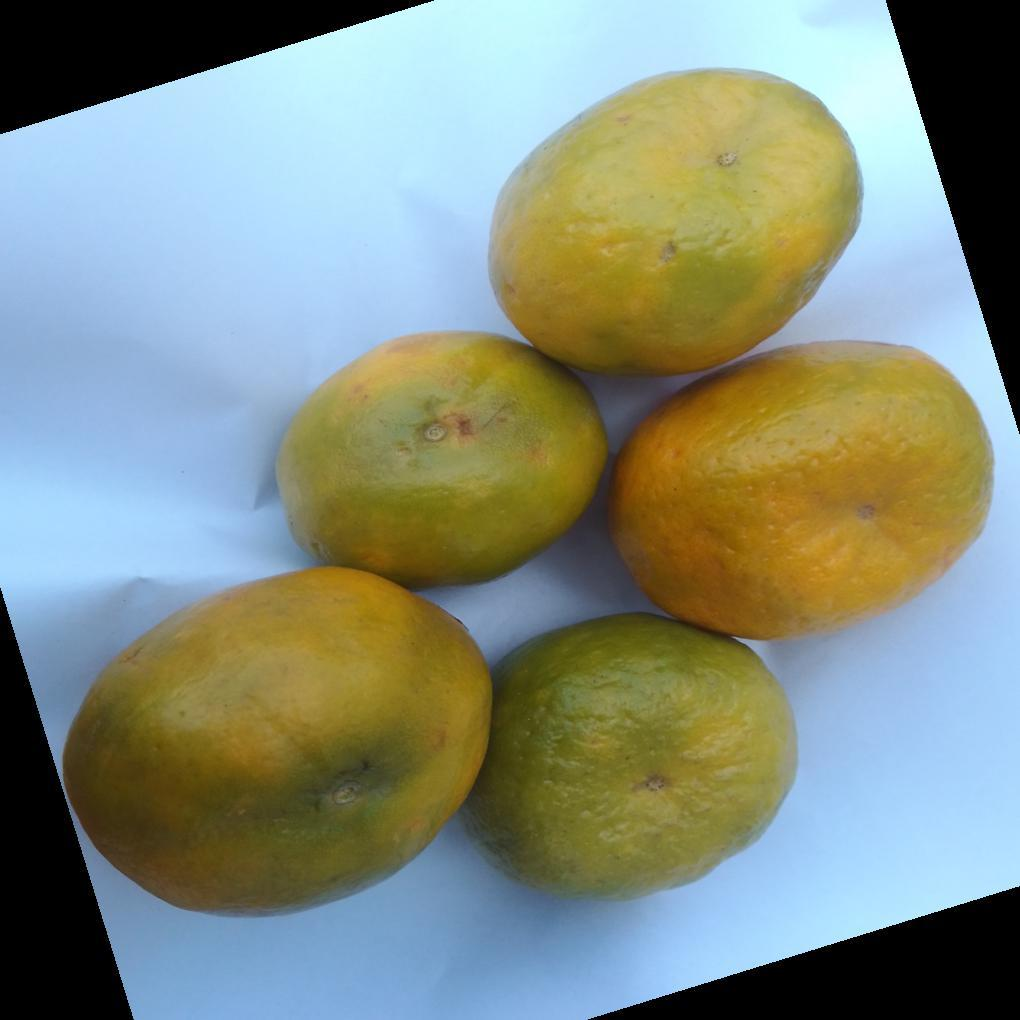FreshGuava: (61, 69, 994, 920)
